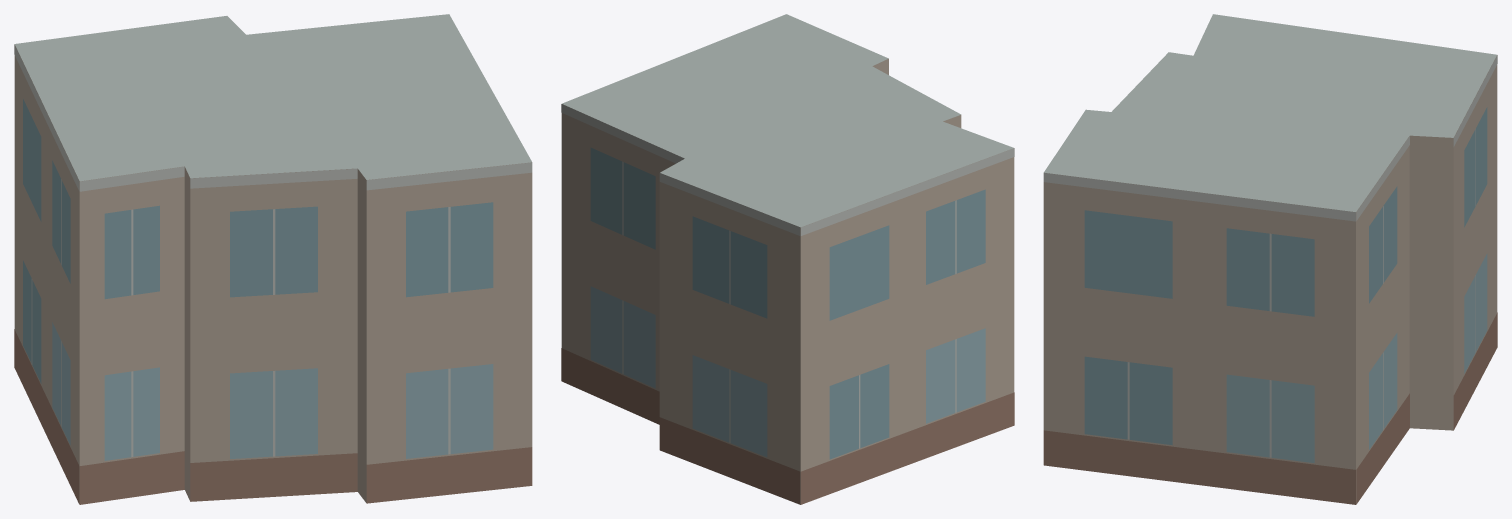
File: survey-upis-32658869.glb
3 views of the same model, side by side, from view 1: azimuth 30°, elevation 25°; view 2: azimuth 150°, elevation 25°; view 3: azimuth 270°, elevation 25° (orthographic). The views are drawn at different scales.
Parts seen in each view (by area): view 1: survey-upis-32658869.tmp; view 2: survey-upis-32658869.tmp; view 3: survey-upis-32658869.tmp.
Part boxes in pixels (x1,y1,x2,y2): survey-upis-32658869.tmp: (14,14,532,504); survey-upis-32658869.tmp: (561,14,1014,504); survey-upis-32658869.tmp: (1043,14,1497,504).
Bounding box in the file's own units: 11.04 × 7.6 × 10.69.
